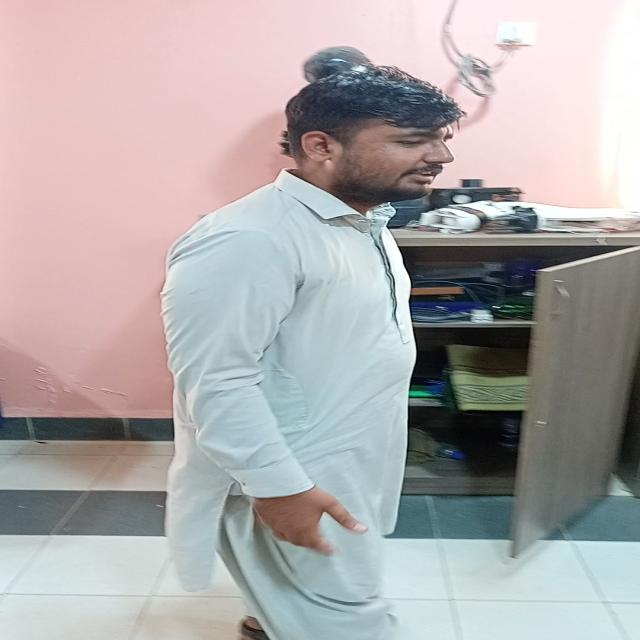dress: (163, 168, 447, 640)
